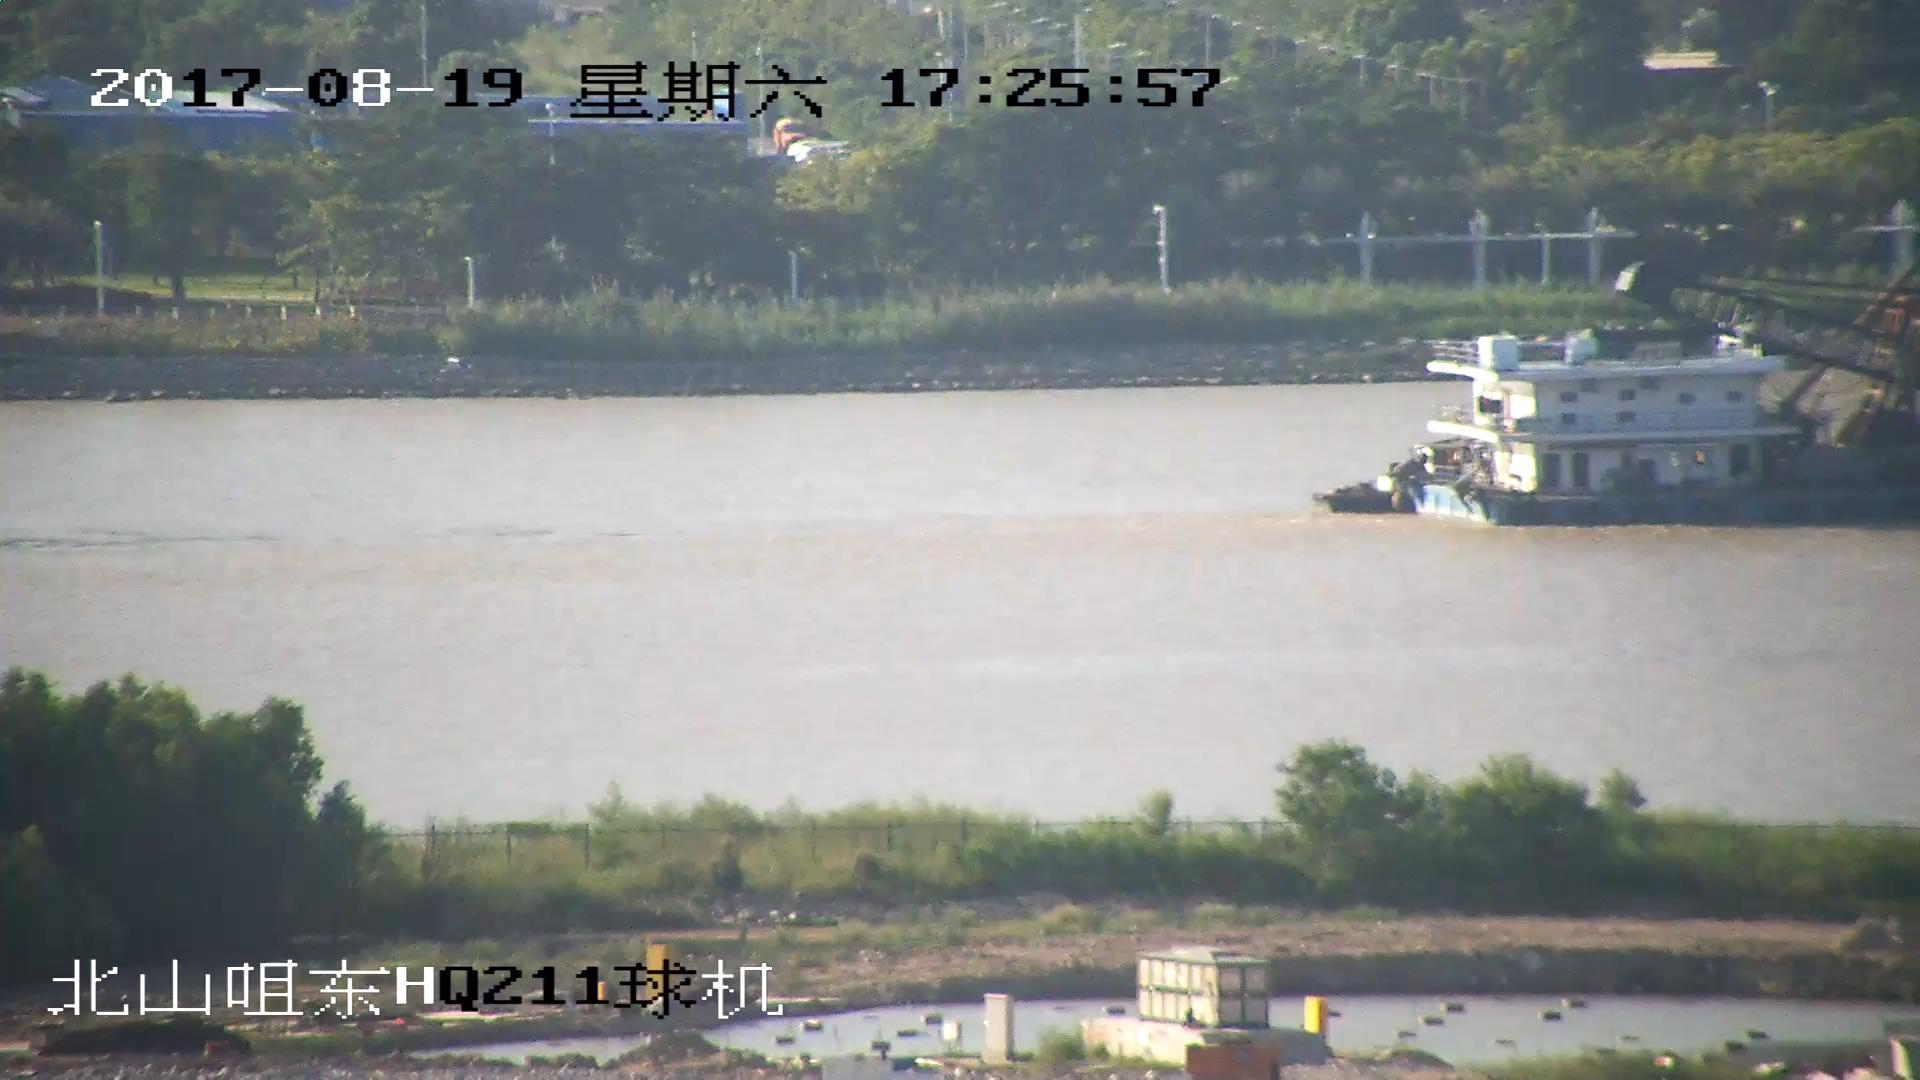fishing boat: (1335, 262, 1920, 521)
